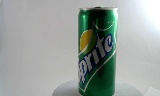sprite: (71, 6, 111, 95)
